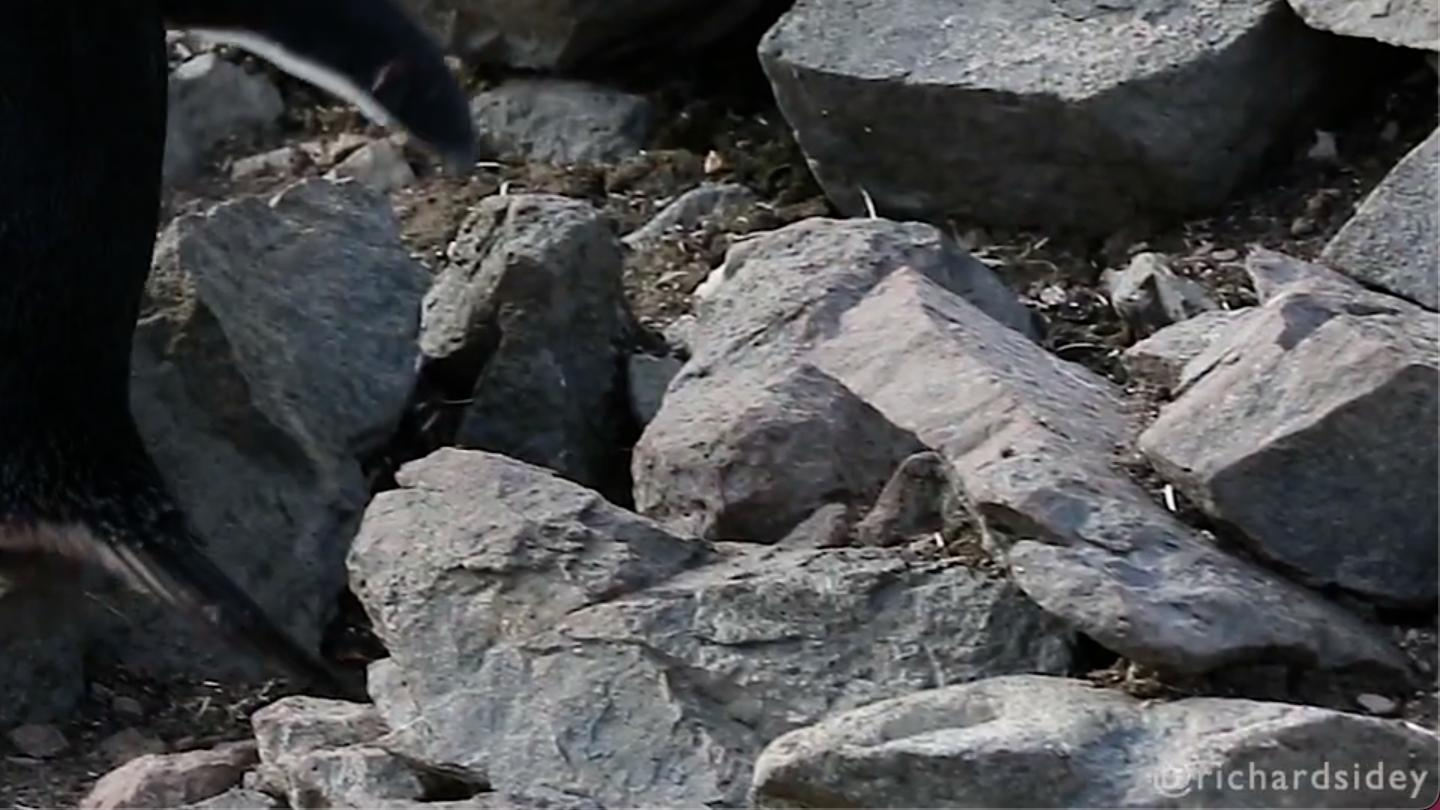Chinstrap Penguin: (0, 0, 166, 564)
